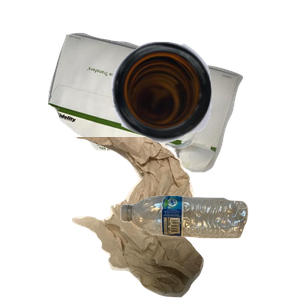glass: (109, 39, 300, 175)
paper: (45, 30, 281, 195)
plastic: (118, 193, 300, 300)
trash: (66, 137, 263, 300)
